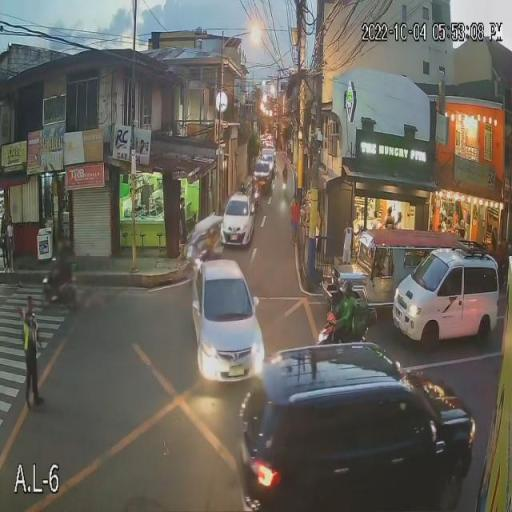helmet: (338, 282, 356, 299)
motorcycle: (316, 304, 376, 346), (42, 274, 84, 310)
rider: (332, 284, 366, 342), (52, 245, 77, 294)
